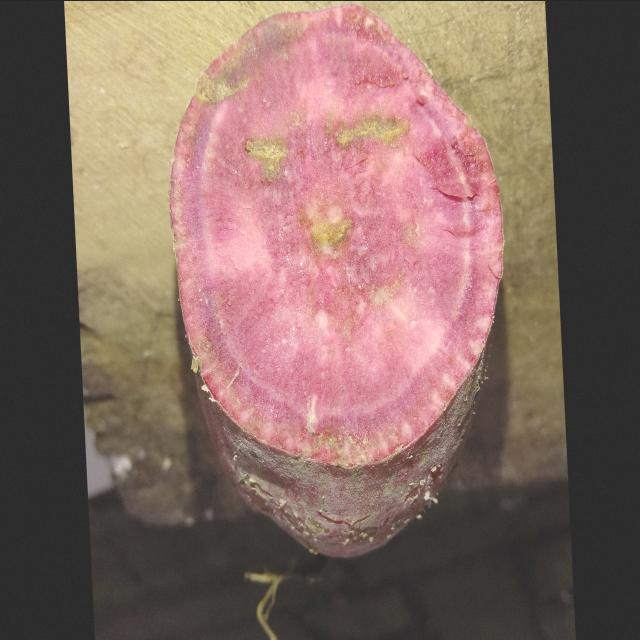Sick Sweet Potato_Tuber Rot: (170, 5, 504, 465)
